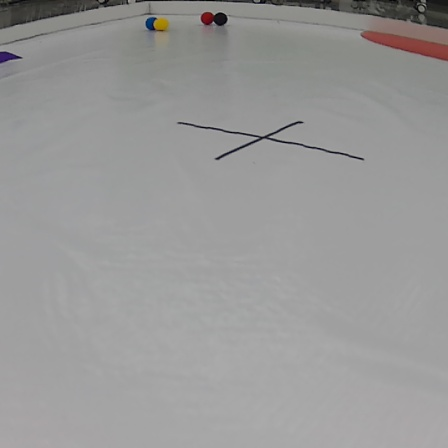black: (212, 10, 231, 29)
blue: (142, 15, 160, 30)
red: (200, 10, 216, 27)
red_base: (355, 28, 448, 66)
yellow: (153, 15, 171, 32)
